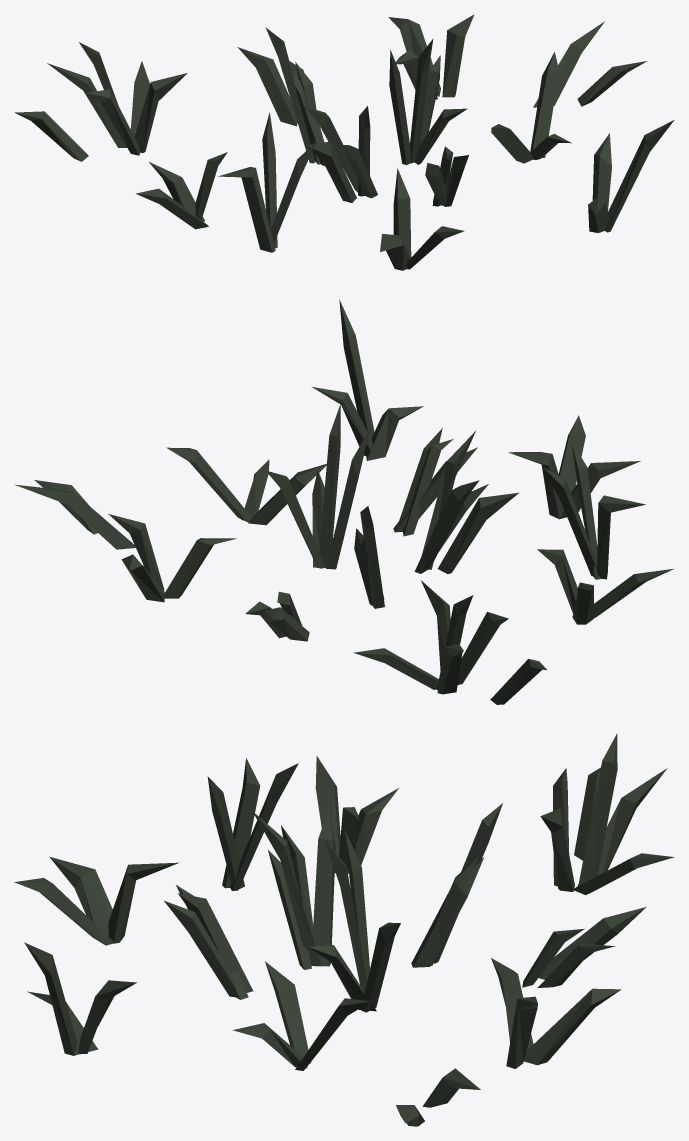
File: crypt_grass.gltf
3 views of the same model, one above another, from view 1: azimuth 30°, elevation 25°; view 2: azimuth 150°, elevation 25°; view 3: azimuth 270°, elevation 25° (orthographic). The views are drawn at different scales.
Parts seen in each view (by area): view 1: crypt_grass; view 2: crypt_grass; view 3: crypt_grass.
Boxes of the visible parts, x1,y1,x2,y2 form: crypt_grass: (15, 14, 674, 270); crypt_grass: (15, 299, 674, 704); crypt_grass: (14, 733, 674, 1126).
Size of the model in its own units: 3.09 by 0.7256 by 2.57.
1 material, 1 textured.
